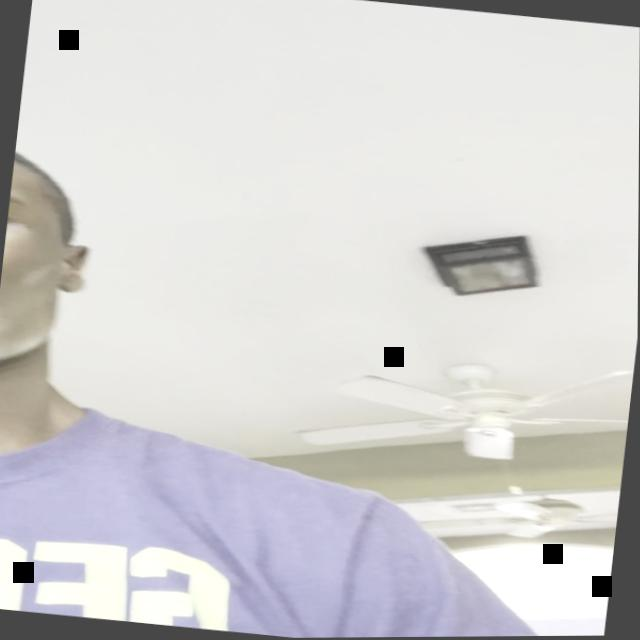NO-Mask: (0, 142, 92, 376)
